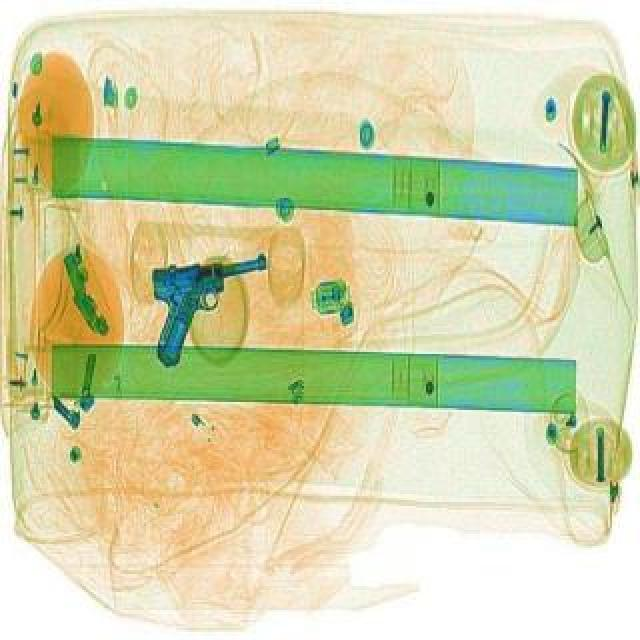gun: (140, 254, 280, 362)
